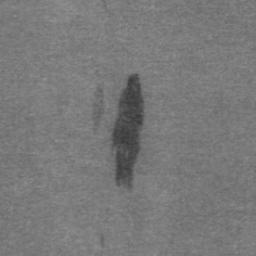Iron scale compression: (113, 73, 145, 189)
